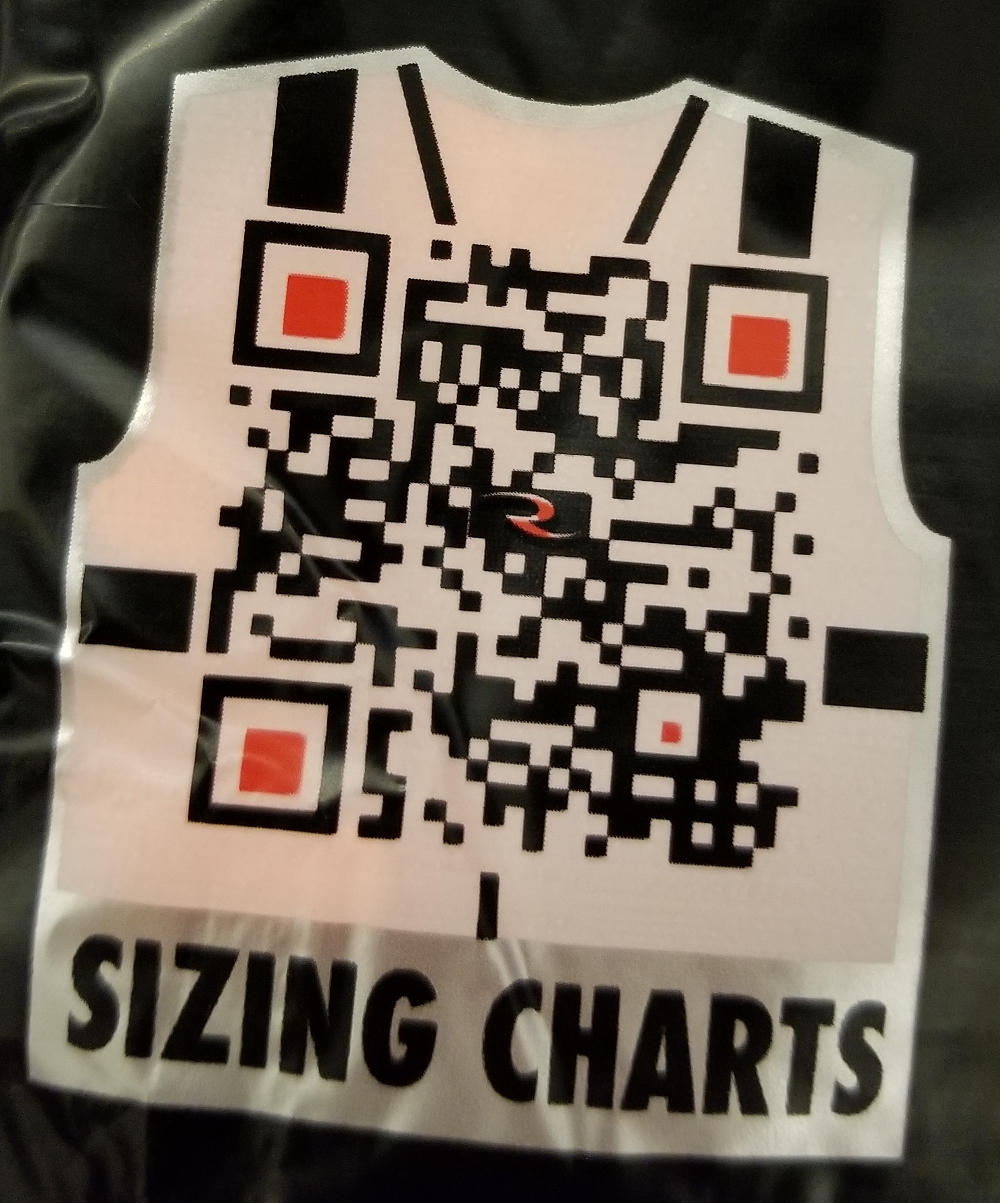QR_CODE: (177, 183, 854, 897)
